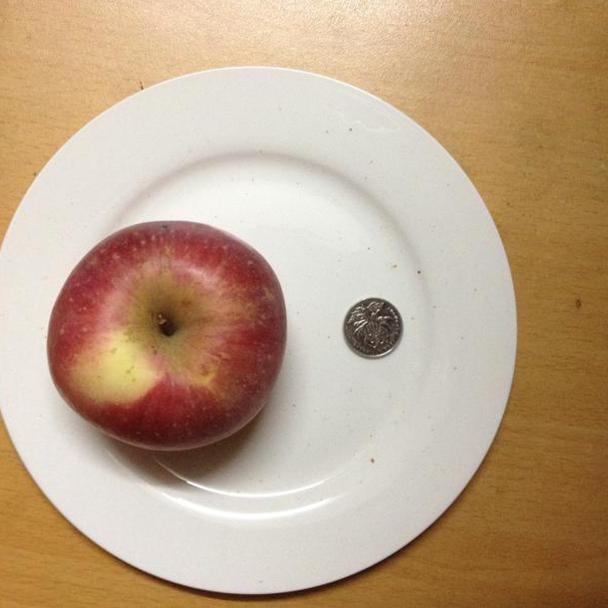apple: (46, 221, 287, 453)
